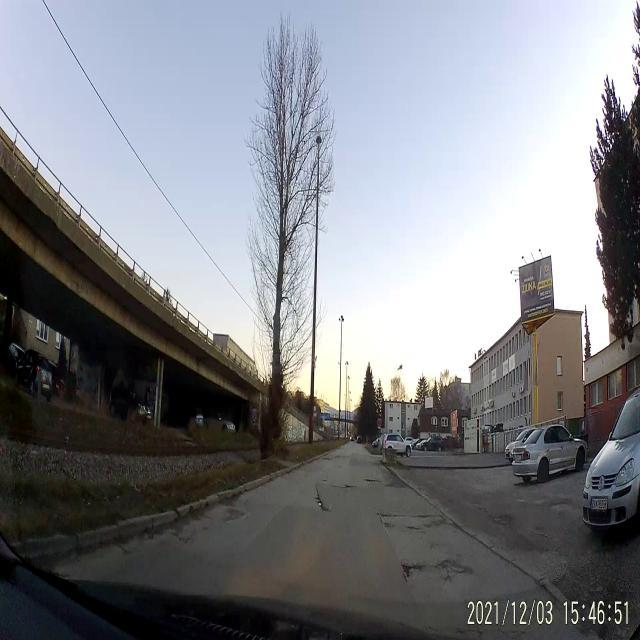Pothole: (439, 554, 472, 580), (398, 554, 428, 582), (224, 502, 248, 527), (377, 510, 398, 532), (408, 520, 430, 538), (314, 493, 332, 515), (173, 530, 192, 548)
